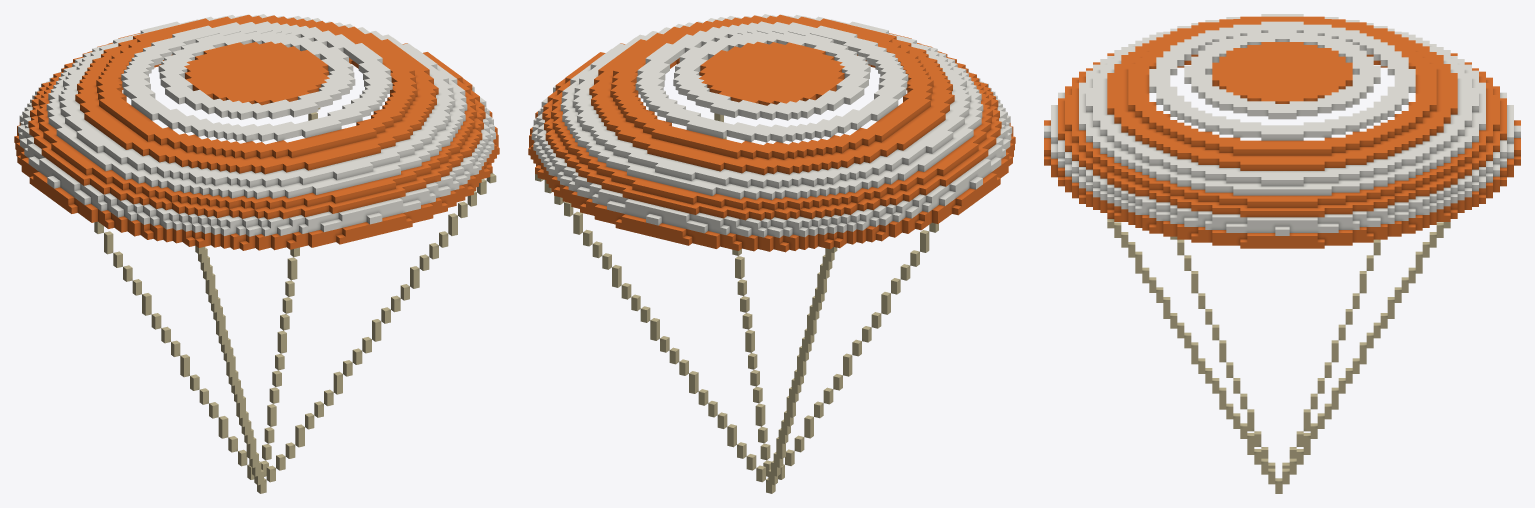
The model's file is cm_chute.glb.
3 views of the same model, side by side, from view 1: azimuth 30°, elevation 25°; view 2: azimuth 150°, elevation 25°; view 3: azimuth 270°, elevation 25° (orthographic).
Parts seen in each view (by area): view 1: cm_chute_body; view 2: cm_chute_body; view 3: cm_chute_body.
Part boxes in pixels (bbox=[...]): cm_chute_body: bbox=[14, 14, 499, 493]; cm_chute_body: bbox=[528, 14, 1015, 493]; cm_chute_body: bbox=[1044, 14, 1520, 493].
Bounding box in the file's own units: 4.25 × 4.12 × 4.25.
1 material, 1 textured.
